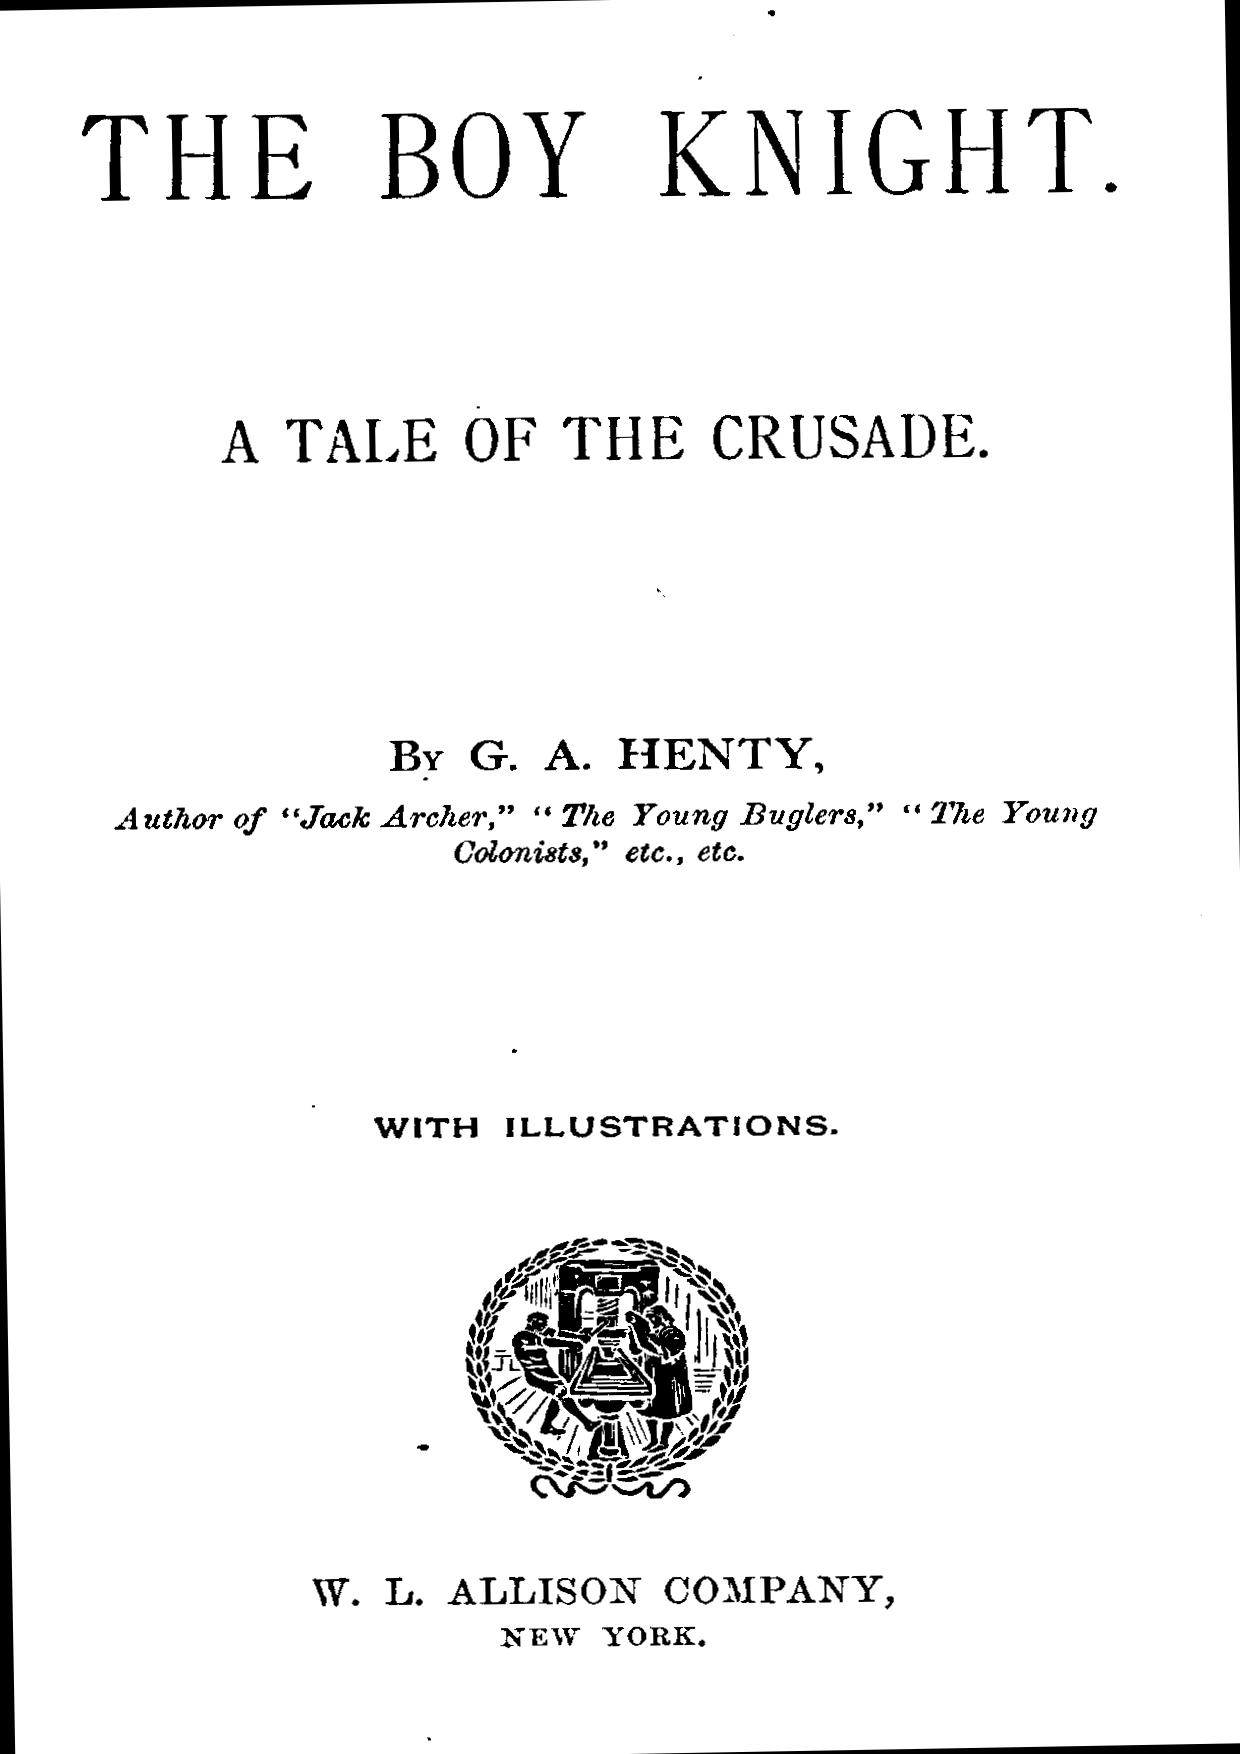author: (382, 734, 829, 777)
title: (74, 103, 1121, 467)
